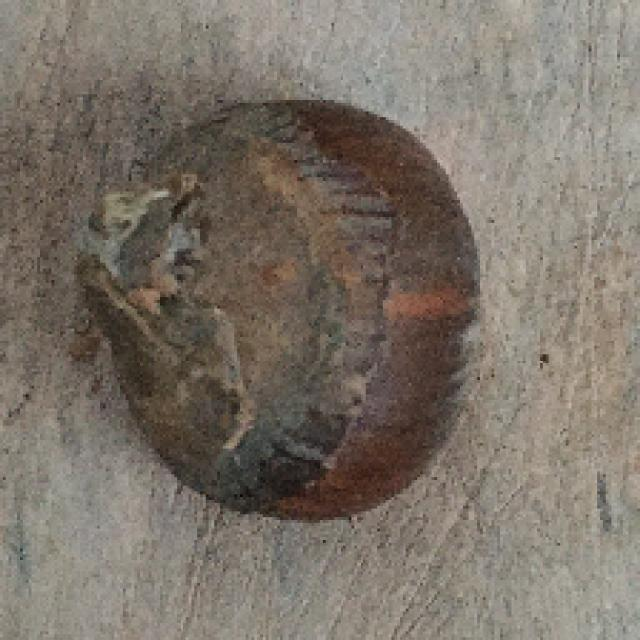damagedHazelnut: (83, 97, 490, 520)
